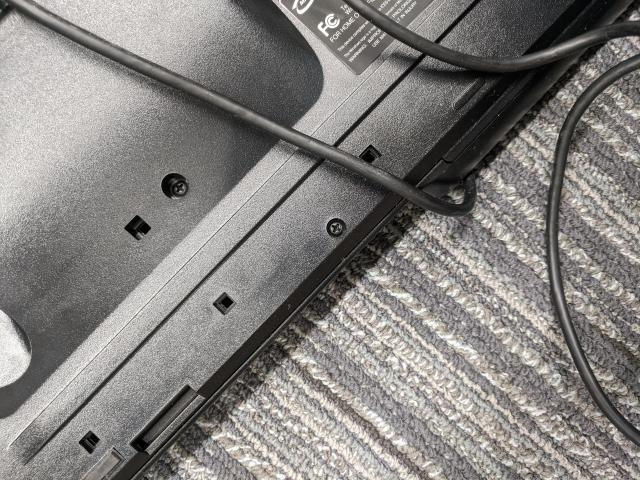CRS: (170, 177, 187, 198), (328, 219, 344, 236)
